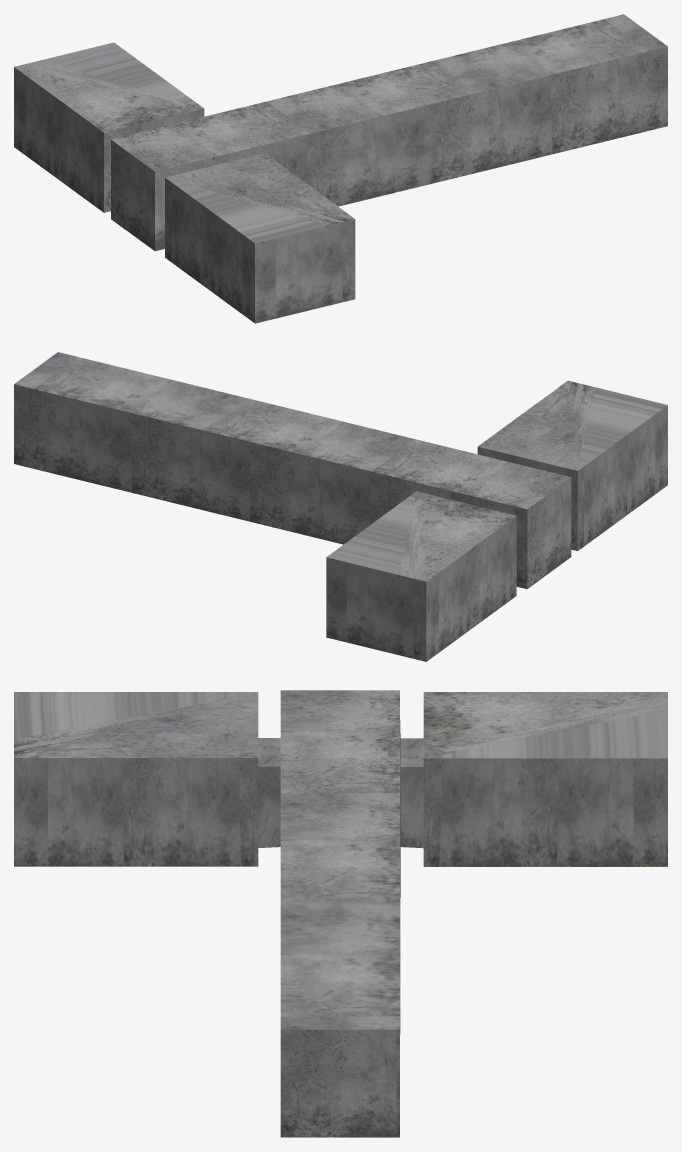
File: prison.obj
3 renders of one model, top to bottom at view 1: azimuth 30°, elevation 25°; view 2: azimuth 150°, elevation 25°; view 3: azimuth 270°, elevation 25°, orthographic. The views are drawn at different scales.
Parts seen in each view (by area): view 1: Cube.005; view 2: Cube.005; view 3: Cube.005.
Part boxes in pixels (box(x1,y1,x2,y2)): Cube.005: box(14, 14, 667, 323); Cube.005: box(14, 352, 667, 661); Cube.005: box(14, 690, 667, 1137).
Bounding box in the file's own units: 13.47 × 2.02 × 10.97.
1 material, 1 textured.
